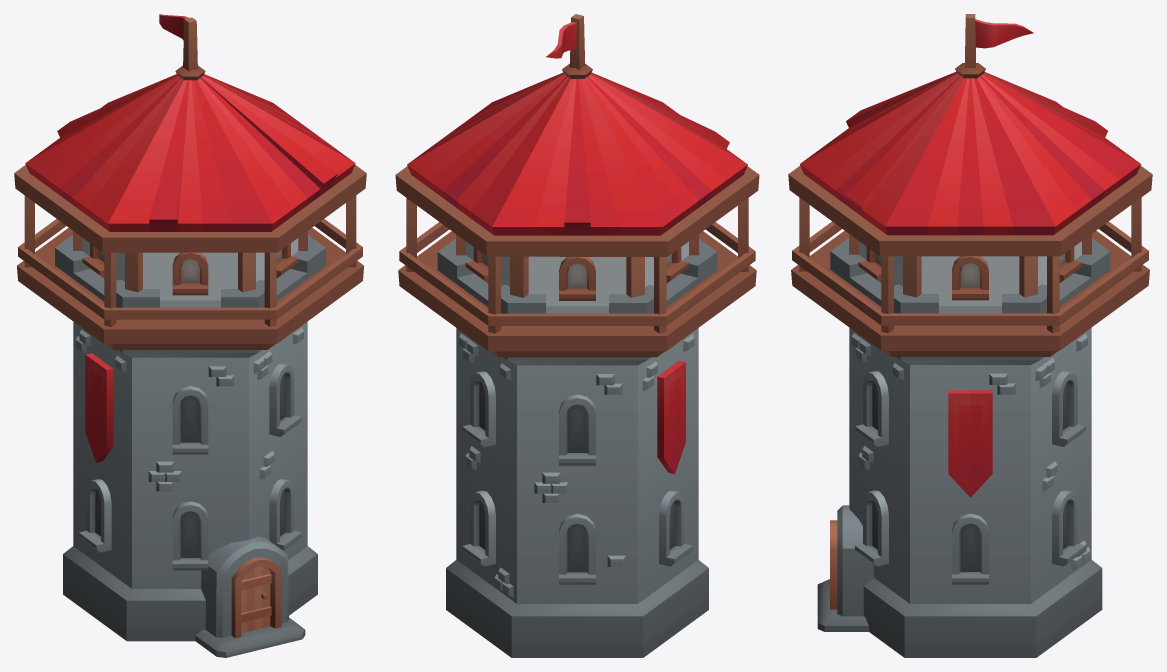
Rendered from kaykit-medieval-hexagon-pack-building-tower-b-red.glb.
The picture shows the model from 3 angles, left to right: view 1: azimuth 30°, elevation 25°; view 2: azimuth 150°, elevation 25°; view 3: azimuth 270°, elevation 25°; orthographic projection. The views are drawn at different scales.
Visible parts, largest first — view 1: building_tower_B_red, building_tower_B_top_red; view 2: building_tower_B_red, building_tower_B_top_red; view 3: building_tower_B_red, building_tower_B_top_red.
Boxes of the visible parts, left/top/right/bottom form: building_tower_B_red: left=55, top=235, right=325, bottom=657; building_tower_B_top_red: left=14, top=14, right=366, bottom=349; building_tower_B_red: left=437, top=238, right=717, bottom=657; building_tower_B_top_red: left=395, top=14, right=759, bottom=357; building_tower_B_red: left=817, top=238, right=1110, bottom=657; building_tower_B_top_red: left=788, top=14, right=1152, bottom=356.
Bounding box in the file's own units: 1.2 × 2.49 × 1.38.
1 material, 1 textured.
